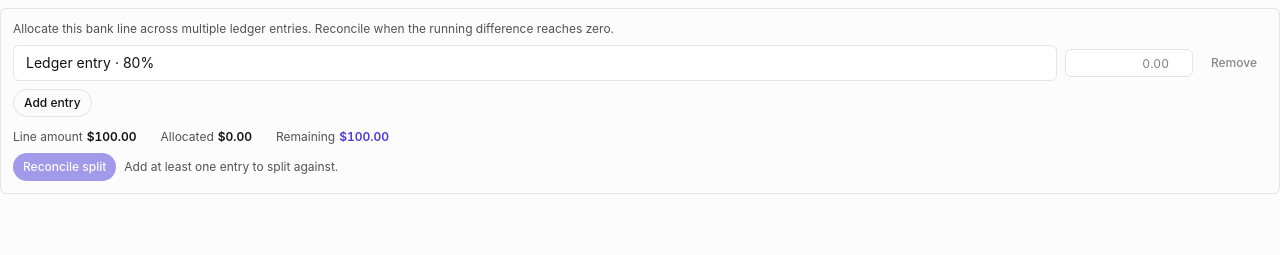
ReconciliationSplitMatch › does not allow reconciling two rows against the same ledger entry
Type "60" into the number field named "allocated".
click(1129, 63); type("60")  # box [1065, 49, 1193, 77]
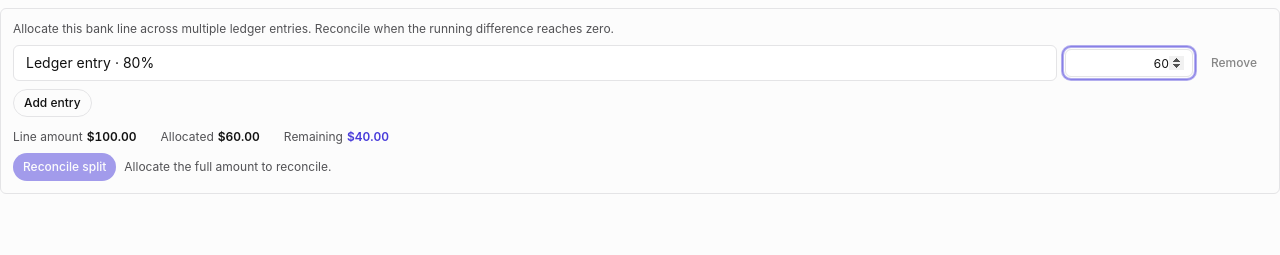
Click the button "Add entry".
click(52, 103)  # box [13, 89, 92, 117]
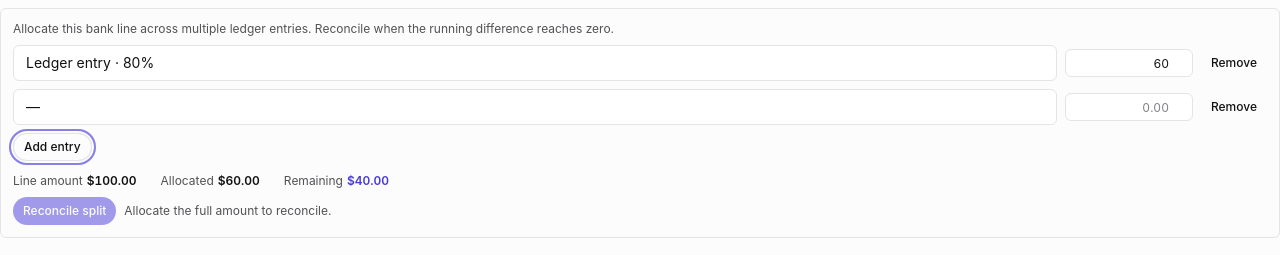
Select "Ledger entry · 80%" in the 2nd dropdown named "Ledger entry" at x=535, y=107, box [13, 89, 1057, 125]
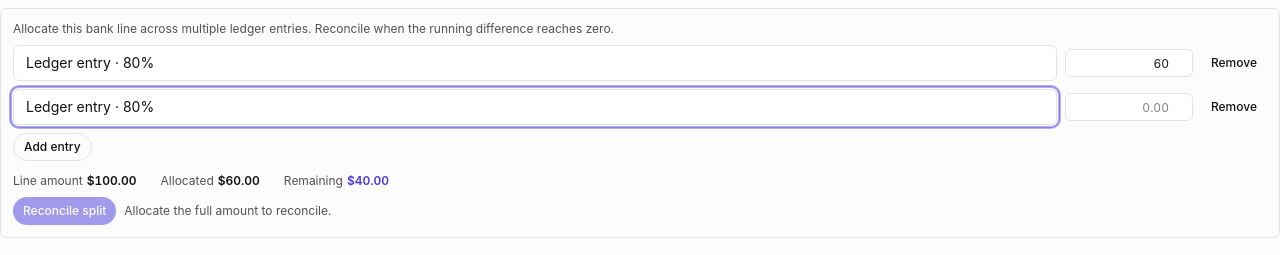
Type "40" into the number field named "allocated".
click(1129, 107); type("40")  # box [1065, 93, 1193, 121]
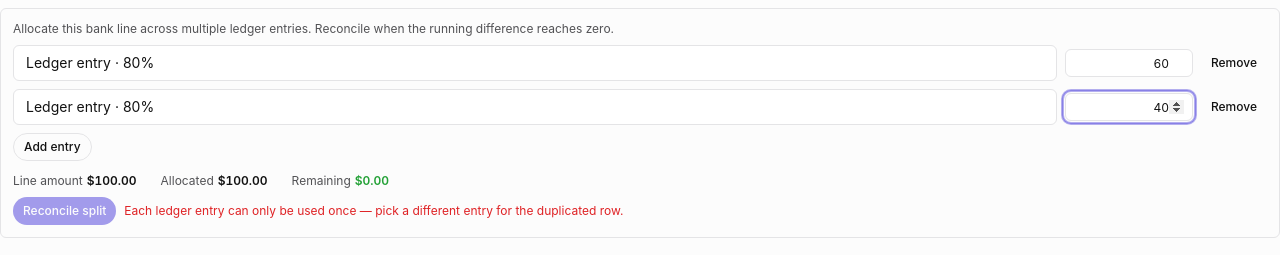
Check: the button "Reconcile split" is disabled, box [13, 197, 116, 225]
Check: the text "can only be used once" is shown, box [124, 203, 623, 218]
